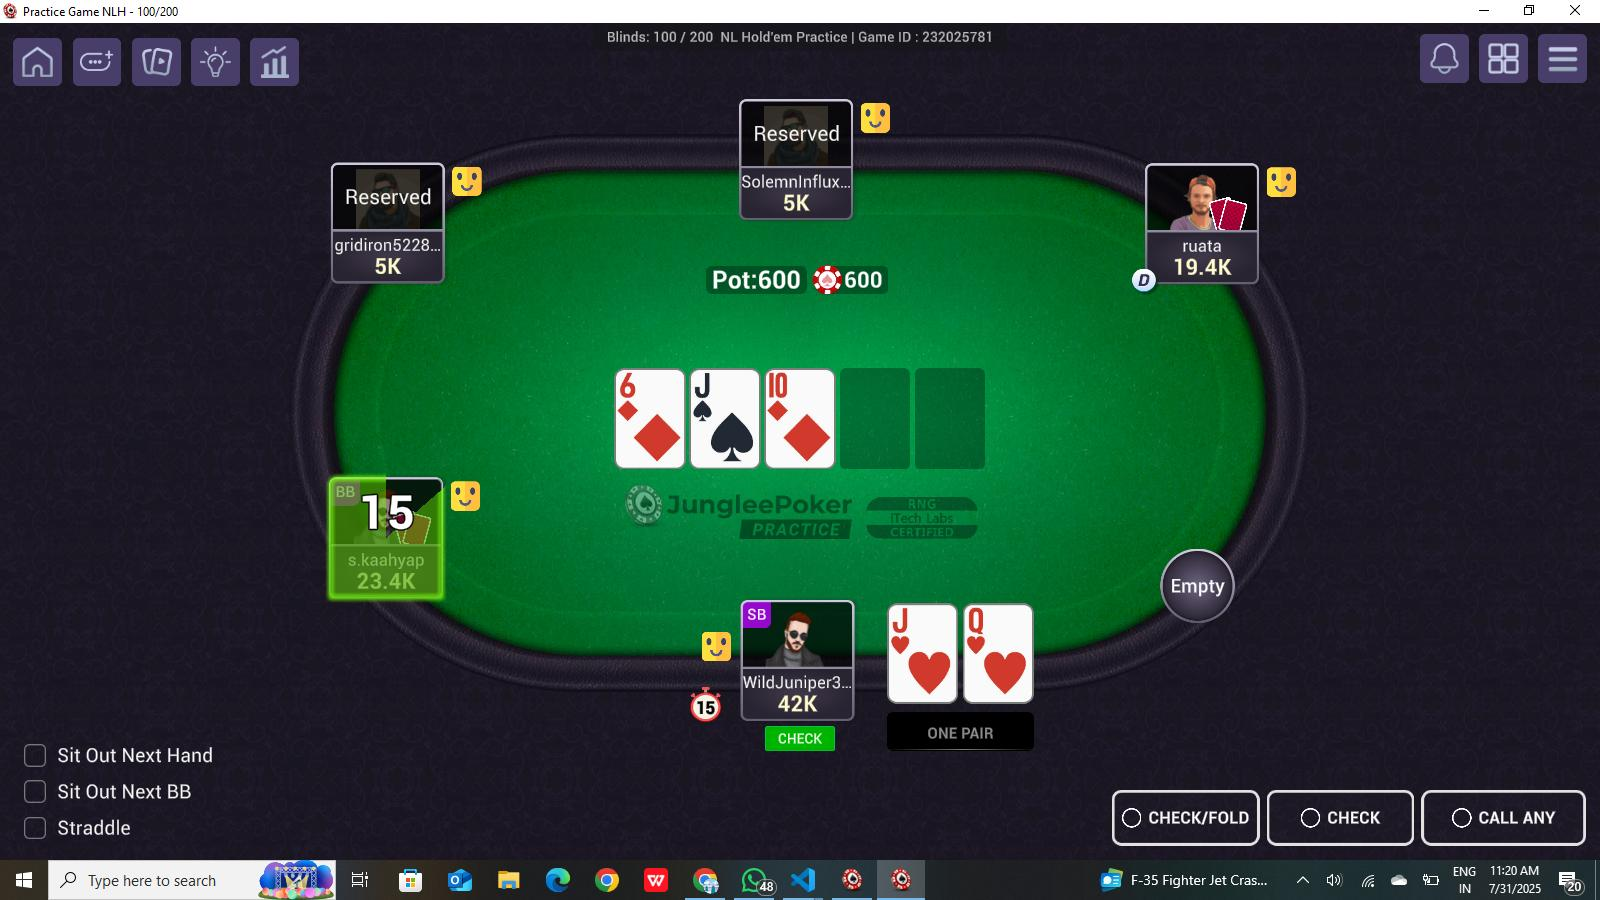card1_rank: (892, 604, 951, 636)
card1_suite_heart: (904, 635, 958, 701)
card2_rank: (964, 604, 1031, 640)
card2_suite_heart: (974, 638, 1035, 702)
flop1_rank: (616, 373, 681, 401)
flop1_suite_diamond: (630, 404, 682, 465)
flop2_rank: (692, 373, 754, 405)
flop2_suite_spades: (708, 401, 760, 465)
flop3_rank: (768, 370, 814, 398)
flop3_suite_diamond: (780, 395, 835, 468)
game_id: (852, 21, 1004, 52)
my_stack: (744, 687, 854, 718)
position_BB: (332, 477, 363, 512)
position_SB: (738, 597, 770, 632)
total_pot: (708, 268, 892, 293)
villian1_name: (330, 545, 444, 577)
villian1_stack: (327, 565, 442, 601)
villian2_name: (330, 229, 440, 257)
villian2_stack: (327, 253, 438, 281)
villian3_name: (740, 167, 854, 193)
villian3_stack: (742, 189, 854, 216)
villian4_name: (1146, 229, 1257, 258)
villian4_stack: (1152, 257, 1257, 284)
